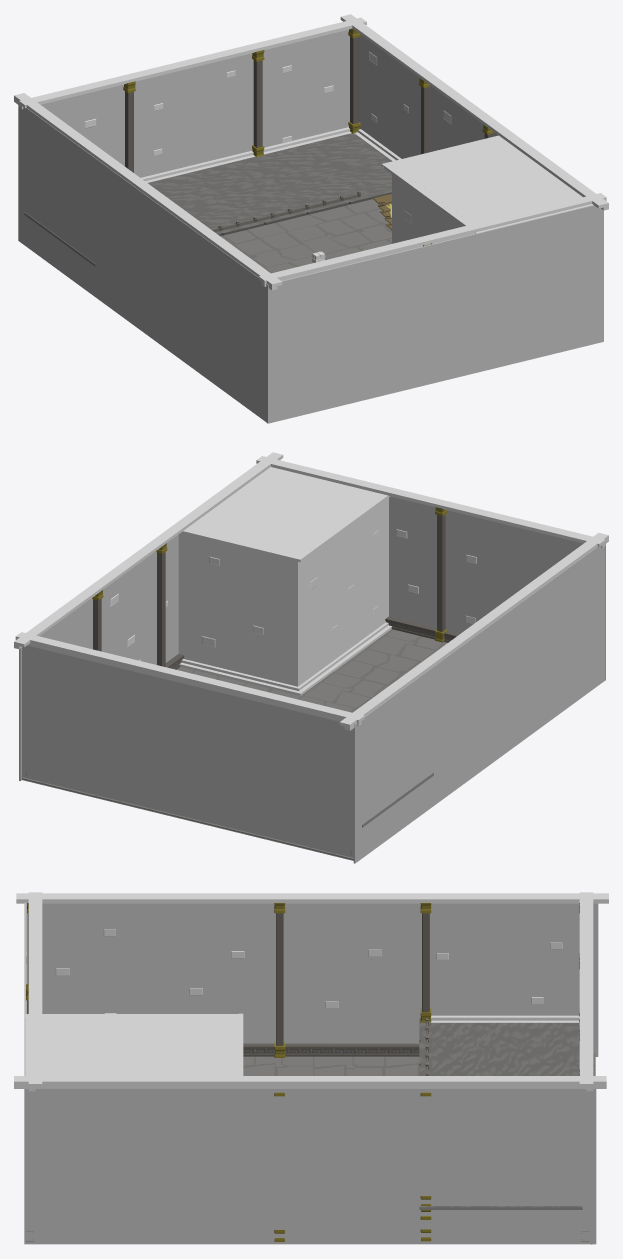
File: main01.fbx
3 views of the same model, one above another, from view 1: azimuth 30°, elevation 25°; view 2: azimuth 150°, elevation 25°; view 3: azimuth 270°, elevation 25° (orthographic). The views are drawn at different scales.
Visible parts, largest first — view 1: 벽, Object001, Box007, 벽1, 1, Object065, Box031, Object054, Object073, fence01; view 2: 벽, 벽1, Box007, 1, Object054, Object065, Object073, Object066; view 3: 벽, Box007, 벽1, Object001, 1, Object065, Object066, Object054, Box031, Object073.
Boxes of the visible parts, x1,y1,x2,y2 form: 벽: (18,29,603,423); Object001: (24,133,391,266); Box007: (14,14,608,290); 벽1: (392,138,593,243); 1: (220,199,391,273); Object065: (123,28,493,246); Box031: (141,127,401,182); Object054: (381,135,502,233); Object073: (84,51,451,223); fence01: (211,191,360,232); 벽: (19,496,605,863); 벽1: (178,467,388,686); Box007: (14,452,608,730); 1: (21,629,447,859); Object054: (179,494,392,695); Object065: (92,507,447,667); Object073: (110,529,476,660); Object066: (22,616,459,855); 벽: (24,902,598,1244); Box007: (14,892,608,1091); 벽1: (25,1017,233,1075); Object001: (419,1018,582,1209); 1: (243,1053,595,1075); Object065: (26,903,579,1241); Object066: (26,1043,589,1241); Object054: (25,1013,243,1075); Box031: (429,1015,579,1022); Object073: (26,929,562,1013).
Size of the model in its own units: 3117 by 1235 by 4088.
